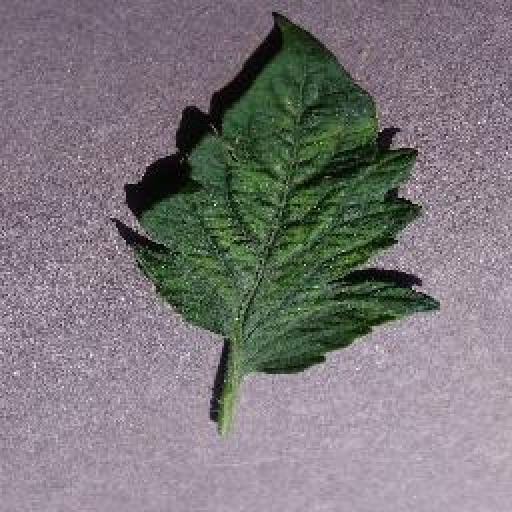Mosaic Virus: (115, 12, 441, 377)
